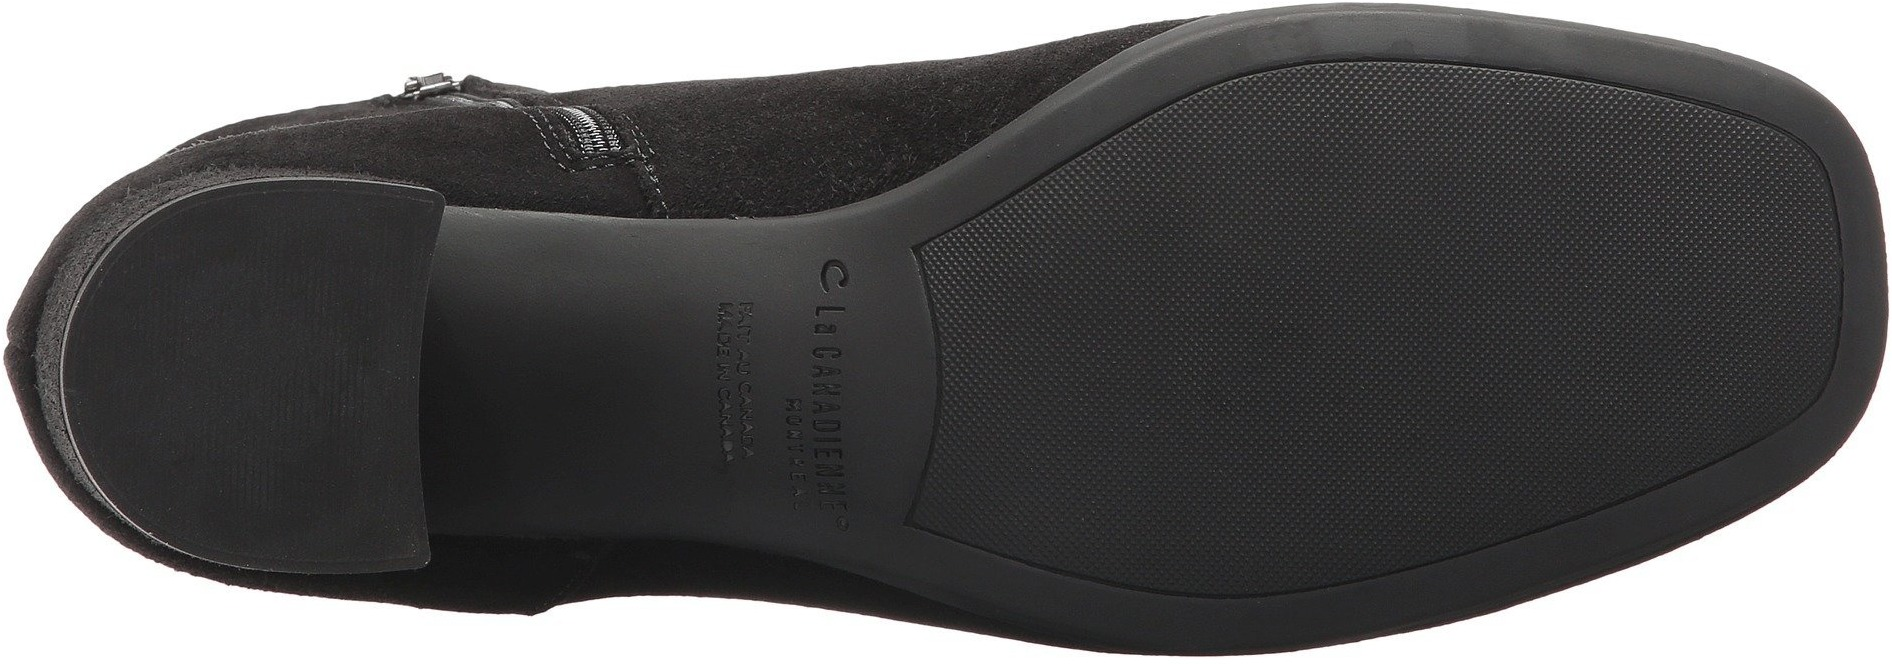line: (134, 249, 410, 509)
other: (1243, 88, 1542, 368), (948, 234, 1238, 489), (1544, 165, 1812, 404), (1244, 374, 1446, 558)
